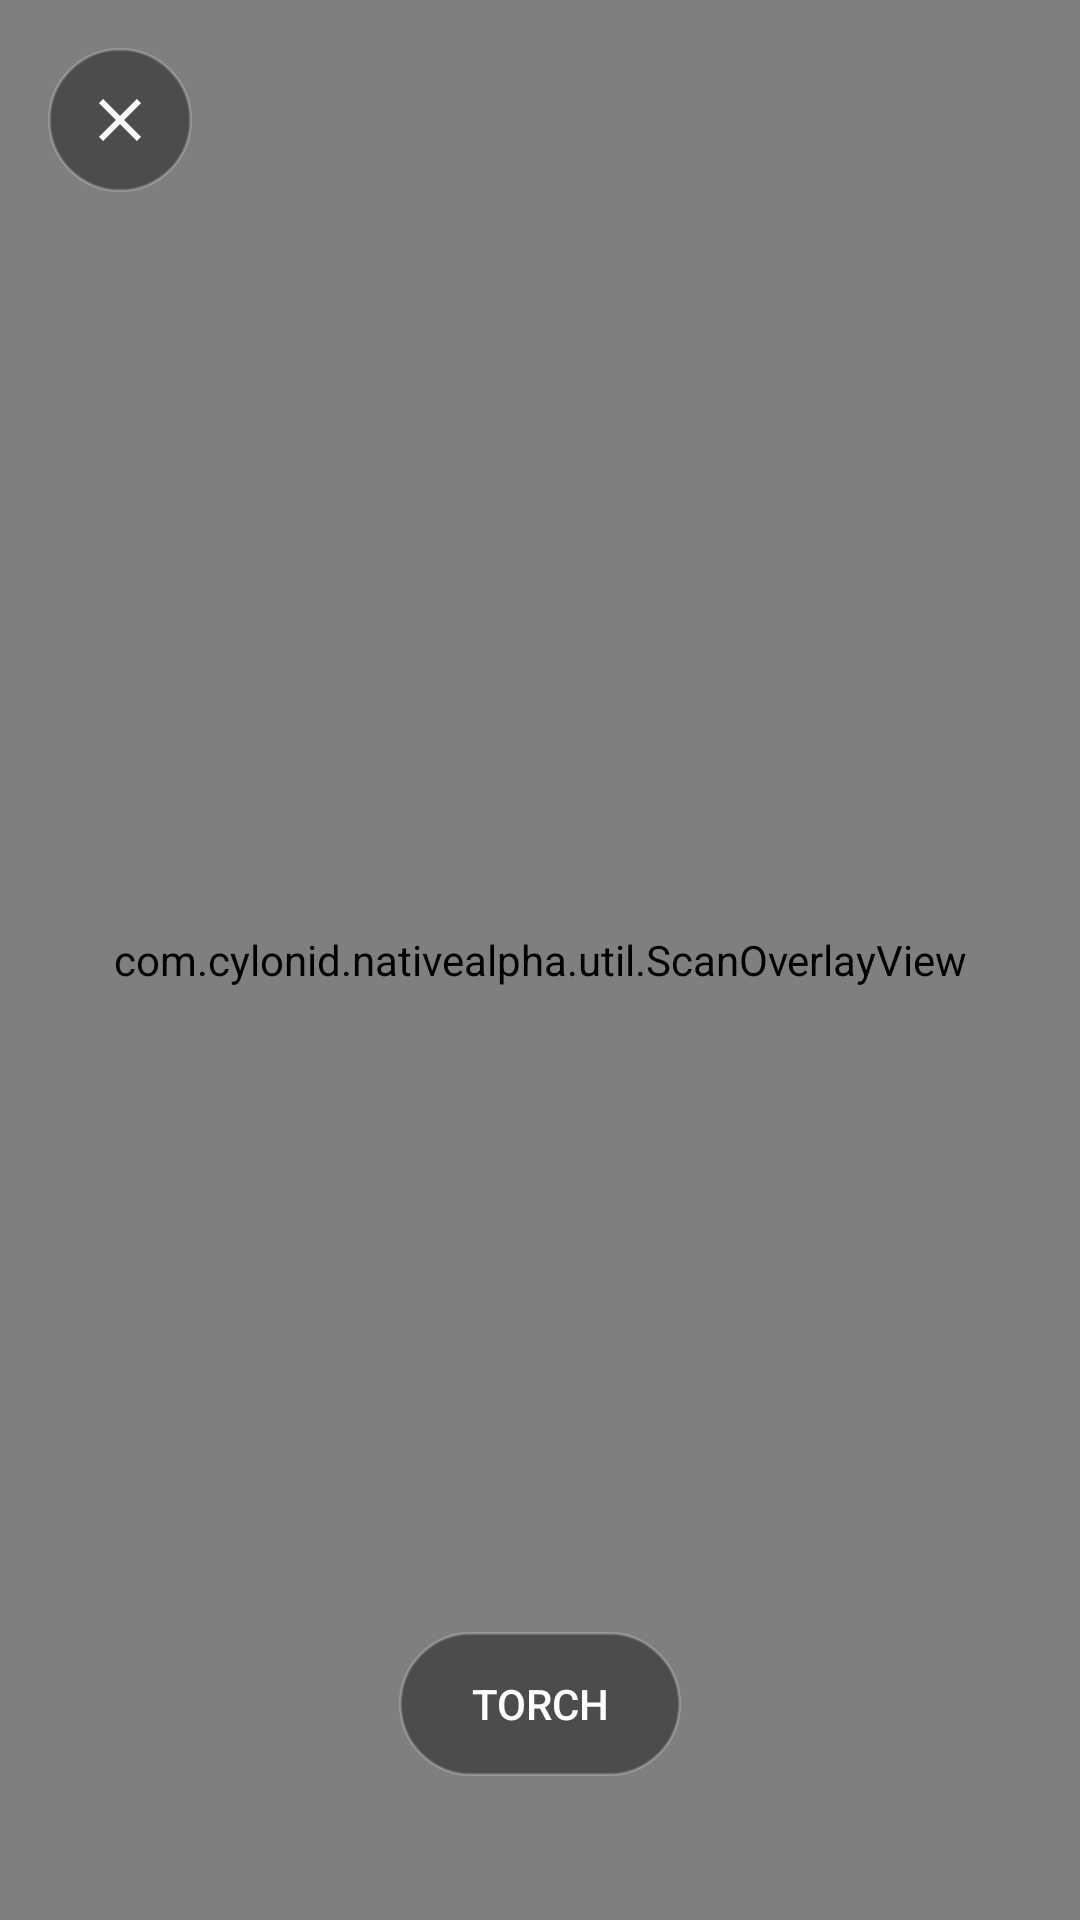

Icon click points for this 1080w x 1920h phone screenshot, format [x,y]:
Close: [119,120]
